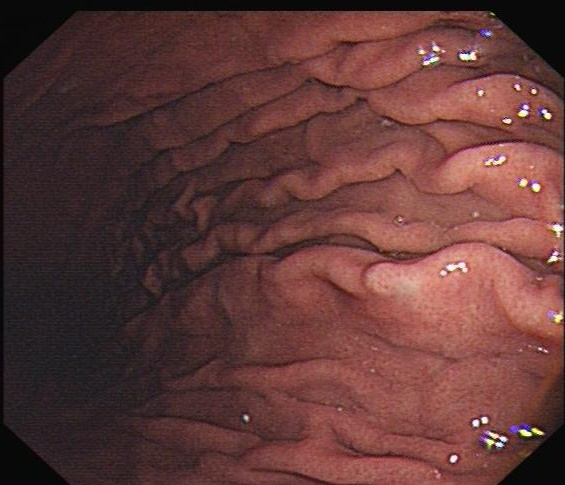Polyp: (358, 243, 414, 316)
